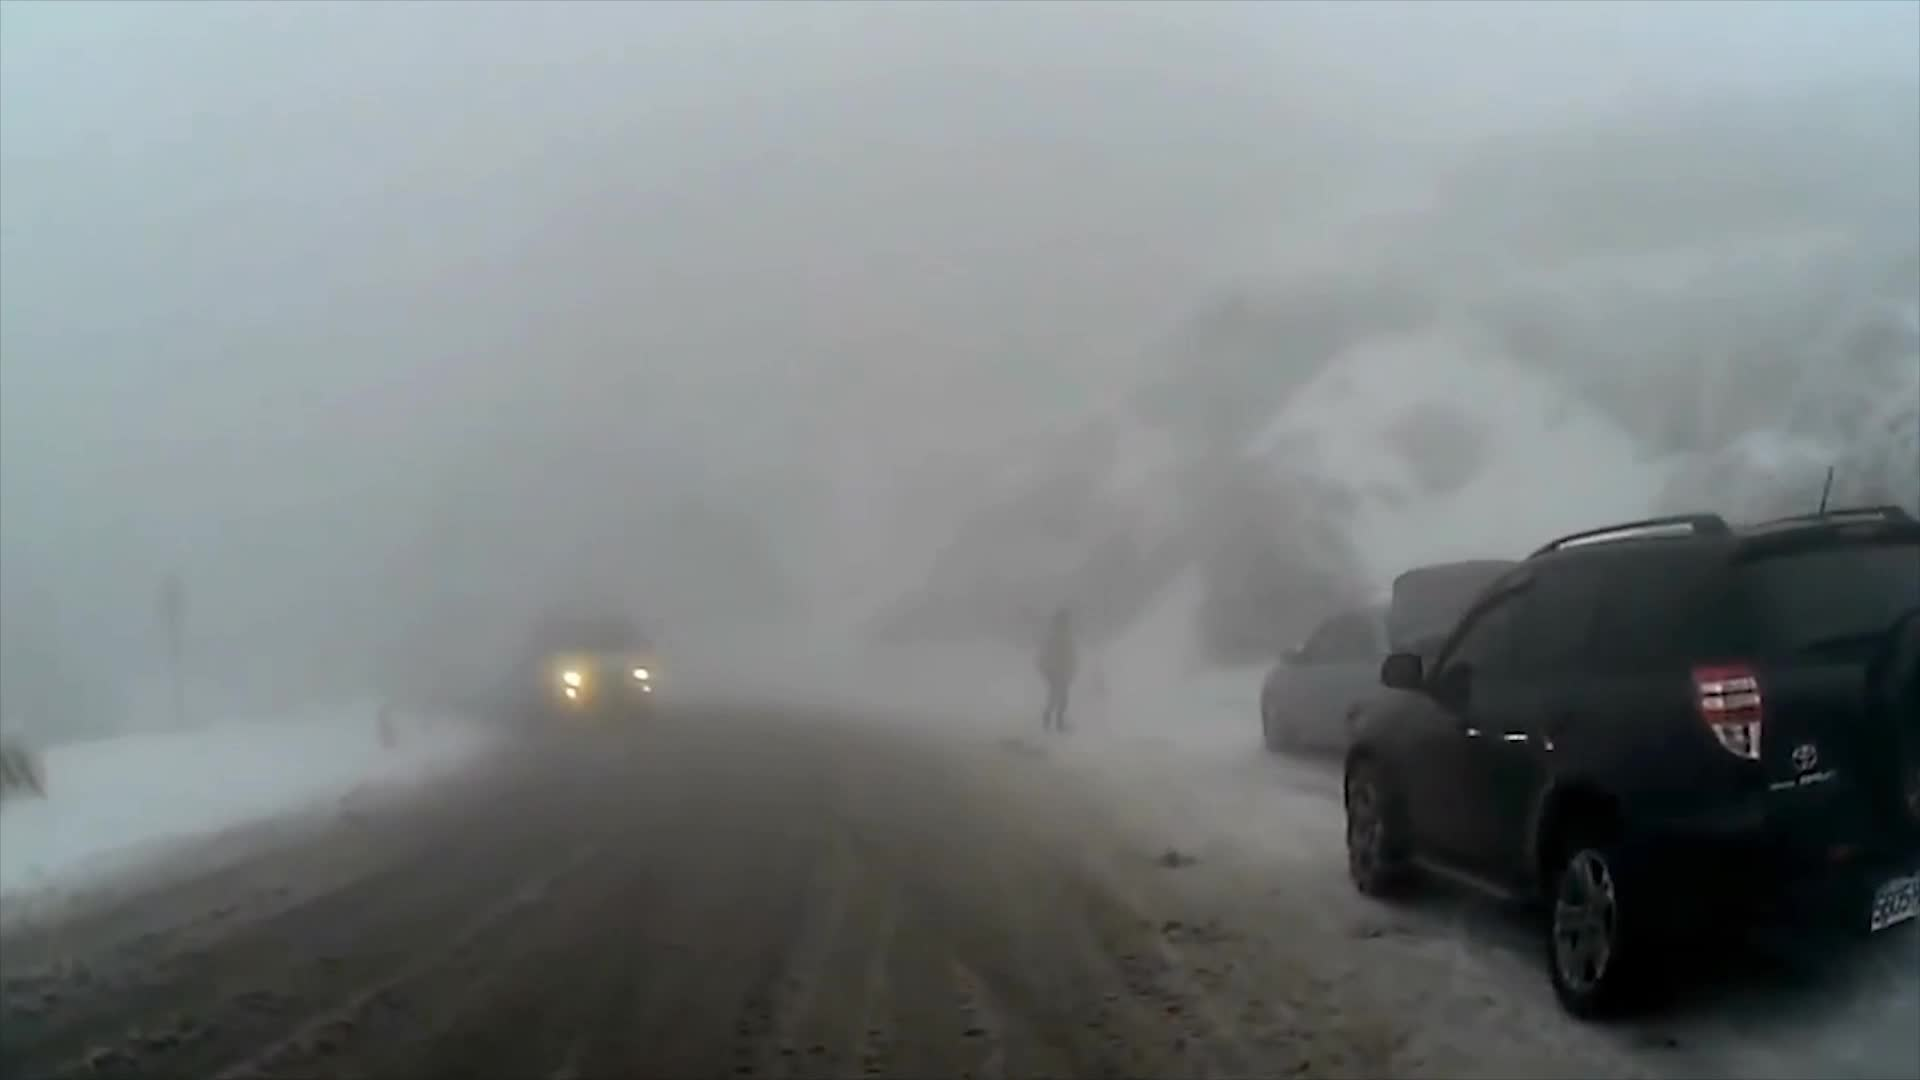pedestrian: (1032, 614, 1077, 730)
vehicle: (1339, 501, 1920, 1023), (1255, 556, 1575, 774), (525, 599, 659, 723)
